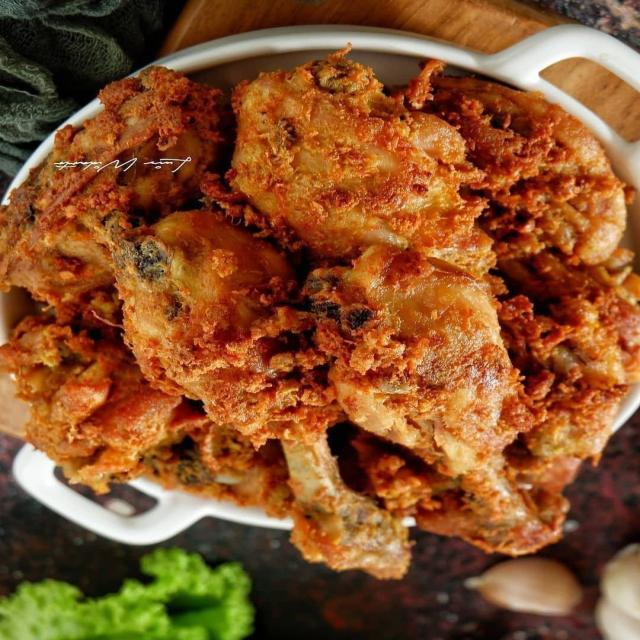ayam_goreng: (28, 38, 606, 603)
